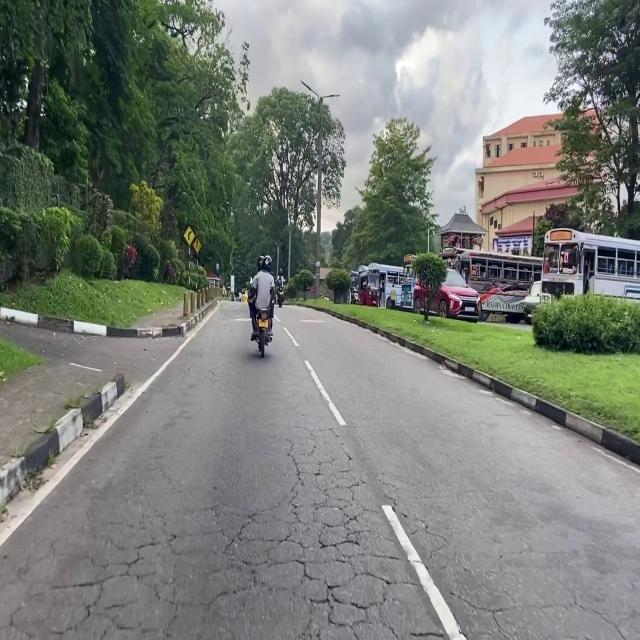bus: (443, 249, 542, 323), (541, 228, 640, 300), (369, 263, 403, 307), (400, 254, 416, 309), (358, 265, 367, 274)
car: (413, 269, 480, 322)
motorcycle: (256, 309, 271, 357), (277, 289, 284, 307), (353, 288, 358, 304)
person: (250, 255, 275, 340), (276, 268, 284, 288), (390, 284, 396, 309)
three wheeler: (358, 271, 378, 307)
van: (523, 280, 541, 324)
